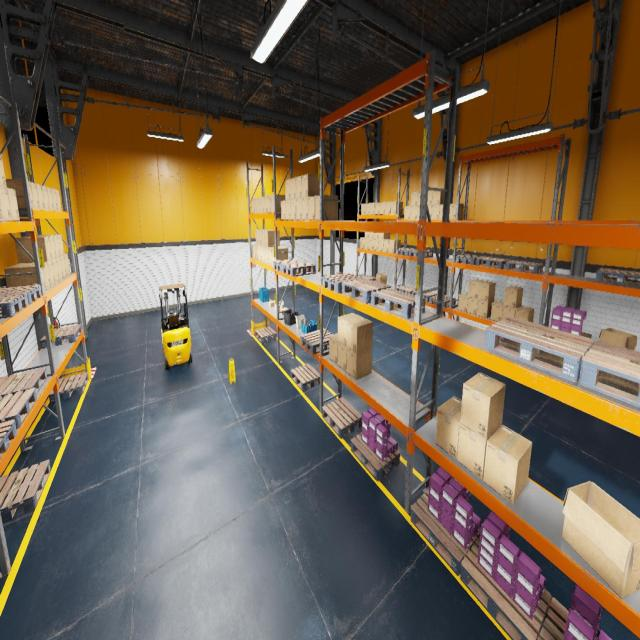box: (562, 481, 640, 599), (483, 424, 532, 504), (460, 372, 506, 440), (457, 423, 501, 480), (435, 396, 462, 460), (4, 264, 46, 290), (12, 262, 51, 289), (15, 237, 52, 263), (347, 317, 372, 353), (346, 347, 372, 380), (6, 179, 34, 209), (338, 312, 362, 347), (599, 328, 637, 350), (24, 236, 56, 259), (28, 235, 60, 258), (36, 234, 64, 256), (315, 195, 338, 220), (504, 286, 523, 308), (7, 188, 20, 220), (0, 187, 12, 221), (302, 174, 319, 197), (478, 281, 495, 301), (477, 299, 494, 318), (468, 279, 484, 299), (515, 306, 534, 322), (30, 182, 40, 210), (272, 247, 288, 264), (338, 342, 347, 372), (491, 301, 504, 321), (264, 230, 280, 246), (330, 333, 338, 364), (502, 306, 521, 319), (0, 153, 7, 188), (36, 183, 45, 210), (271, 195, 285, 212), (268, 247, 282, 264), (449, 203, 463, 220), (41, 185, 50, 210), (258, 229, 271, 245), (458, 292, 468, 312), (467, 297, 478, 315), (48, 260, 55, 286), (390, 201, 403, 214), (308, 196, 315, 220), (47, 187, 54, 210), (51, 188, 58, 211), (261, 230, 271, 246), (388, 240, 401, 252), (432, 191, 444, 204), (55, 189, 62, 211), (53, 258, 59, 283), (57, 256, 63, 280), (431, 204, 440, 220), (60, 255, 66, 278), (302, 197, 308, 220), (296, 198, 302, 220), (290, 177, 296, 199), (64, 254, 70, 275), (290, 199, 296, 220), (376, 273, 387, 284), (296, 176, 301, 198), (285, 179, 290, 200), (255, 229, 262, 244), (384, 239, 392, 252), (411, 192, 418, 206), (410, 206, 417, 219), (426, 205, 432, 219), (427, 190, 433, 204), (286, 200, 290, 220), (281, 200, 285, 220), (385, 201, 391, 214), (374, 202, 380, 215), (370, 202, 376, 215), (404, 206, 410, 219), (267, 195, 271, 213), (378, 239, 384, 251), (378, 233, 389, 239), (260, 196, 264, 212), (258, 245, 262, 260), (380, 202, 385, 214), (365, 203, 370, 215), (439, 204, 443, 219), (276, 301, 284, 308), (364, 238, 369, 249), (0, 203, 3, 221), (264, 195, 267, 212), (280, 308, 288, 314), (274, 306, 282, 312), (265, 247, 268, 263), (369, 238, 373, 250), (362, 203, 366, 215), (255, 198, 258, 213), (262, 246, 265, 261), (253, 243, 256, 258), (374, 239, 378, 250), (360, 237, 364, 248), (416, 206, 419, 219), (268, 300, 274, 306), (258, 197, 260, 213), (252, 198, 254, 214), (274, 302, 280, 307), (256, 244, 258, 259), (369, 232, 374, 238), (374, 232, 378, 239), (418, 191, 420, 205), (365, 232, 369, 238)
forklift: (159, 283, 192, 370)
pallets: (460, 535, 551, 640), (484, 316, 594, 382), (410, 489, 480, 575), (578, 340, 640, 408), (0, 459, 51, 523), (537, 598, 597, 640), (351, 432, 400, 480), (371, 288, 425, 319), (322, 397, 362, 438), (0, 388, 37, 429), (0, 368, 47, 398), (342, 278, 391, 304), (49, 372, 88, 402), (40, 324, 82, 348), (0, 284, 42, 306), (322, 273, 365, 293), (300, 328, 333, 354), (290, 363, 320, 391), (595, 268, 640, 286), (0, 292, 28, 318), (0, 418, 17, 460), (506, 260, 543, 273), (282, 262, 316, 276), (550, 327, 592, 338), (476, 256, 511, 268), (272, 259, 304, 272), (429, 295, 456, 308), (255, 327, 276, 342), (456, 254, 484, 265), (412, 290, 437, 302), (409, 250, 433, 257), (396, 286, 416, 294), (396, 248, 416, 255), (361, 275, 376, 281)
